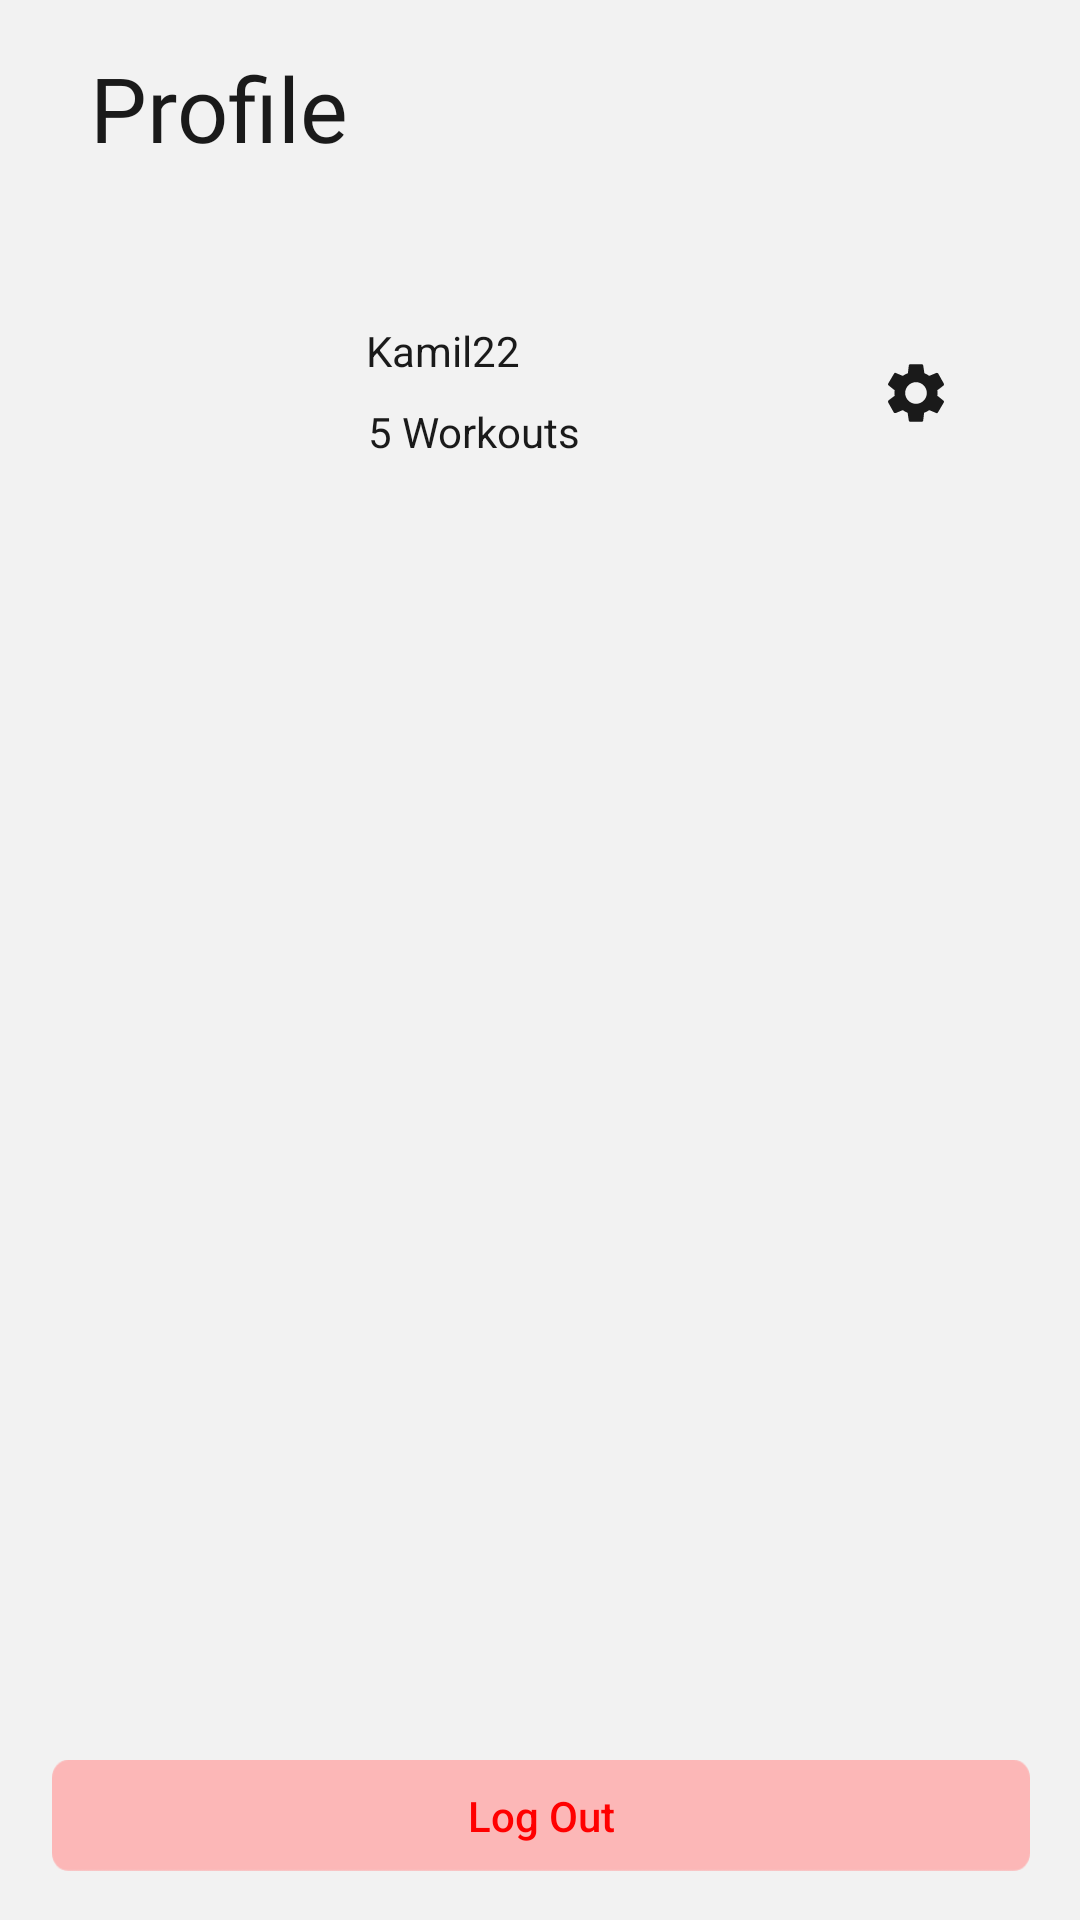

Point at icon controls on the screen. Image size 1080px×1920px, points as point (x, y).
settings: point (916, 393)
